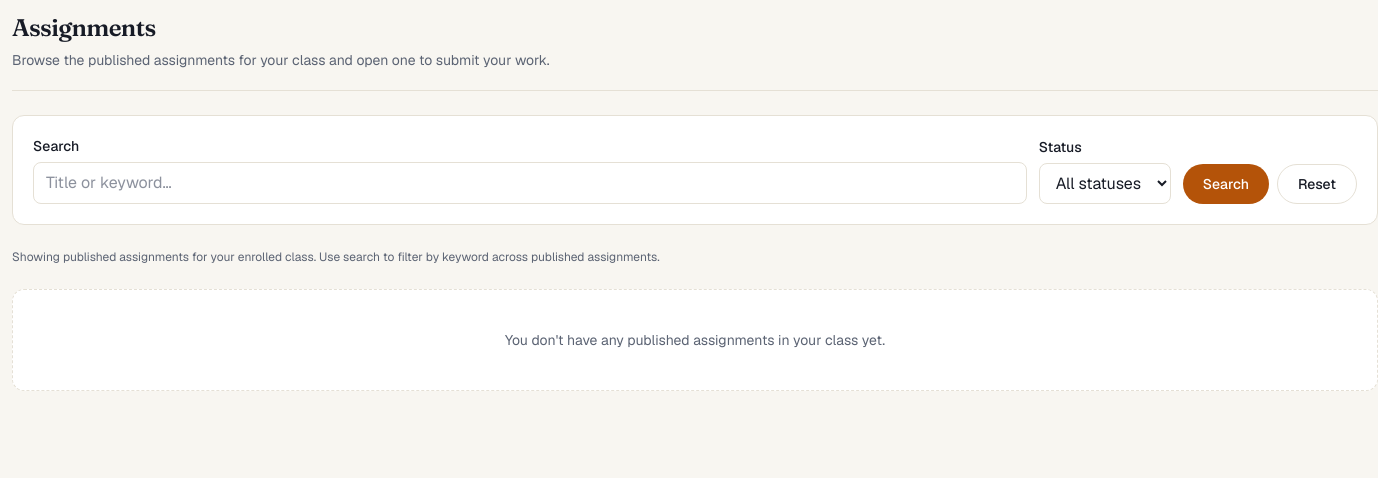
Test case: StudentAssignmentsPage › hints instead of round-tripping on an empty search term
expect the text "You don't have any published assignments in your class yet." is shown: met, box left=12, top=289, right=1377, bottom=391
Step 1. Click the button "Search" → coordinates (1226, 184), box left=1183, top=164, right=1269, bottom=204
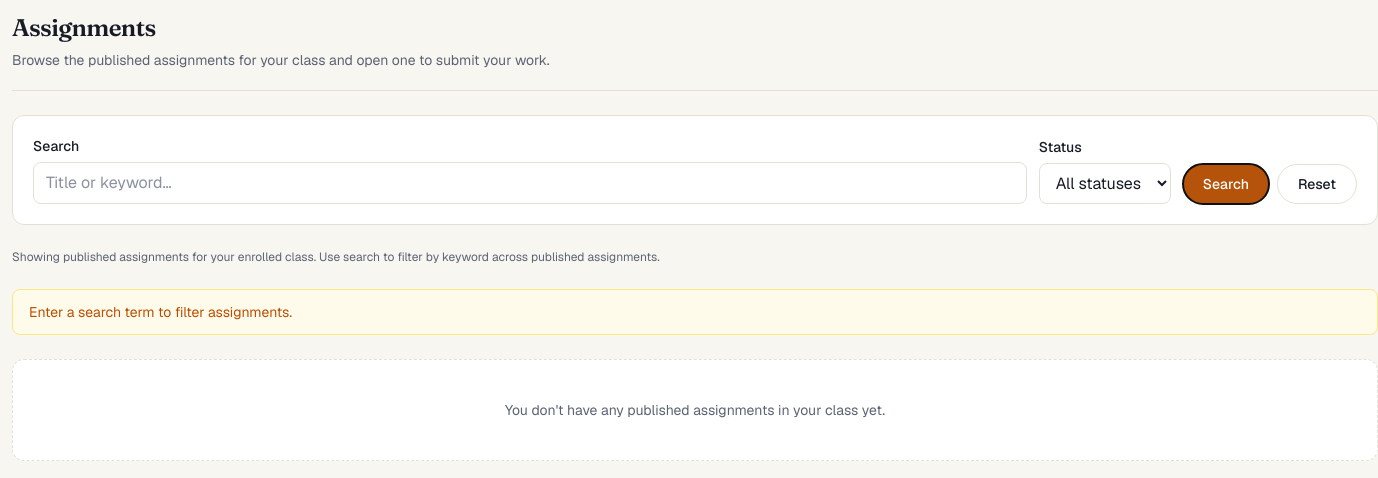
expect the text "Enter a search term to filter assignments." is shown: met, box left=12, top=289, right=1377, bottom=335
